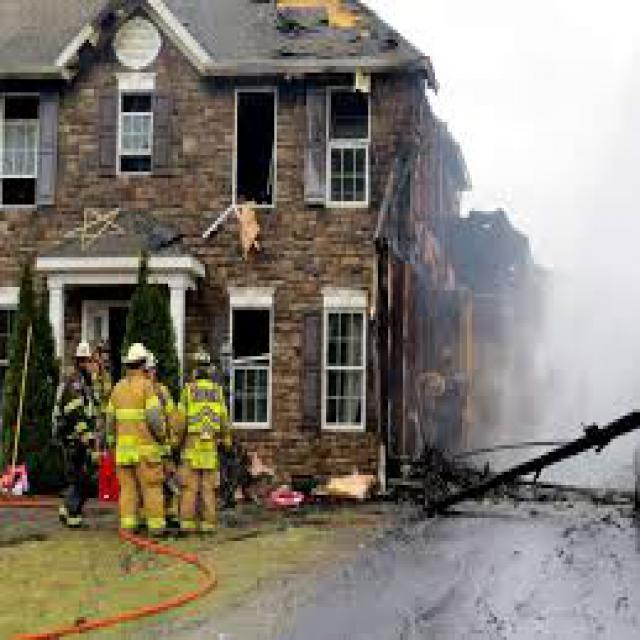Smoke: (438, 71, 640, 526)
